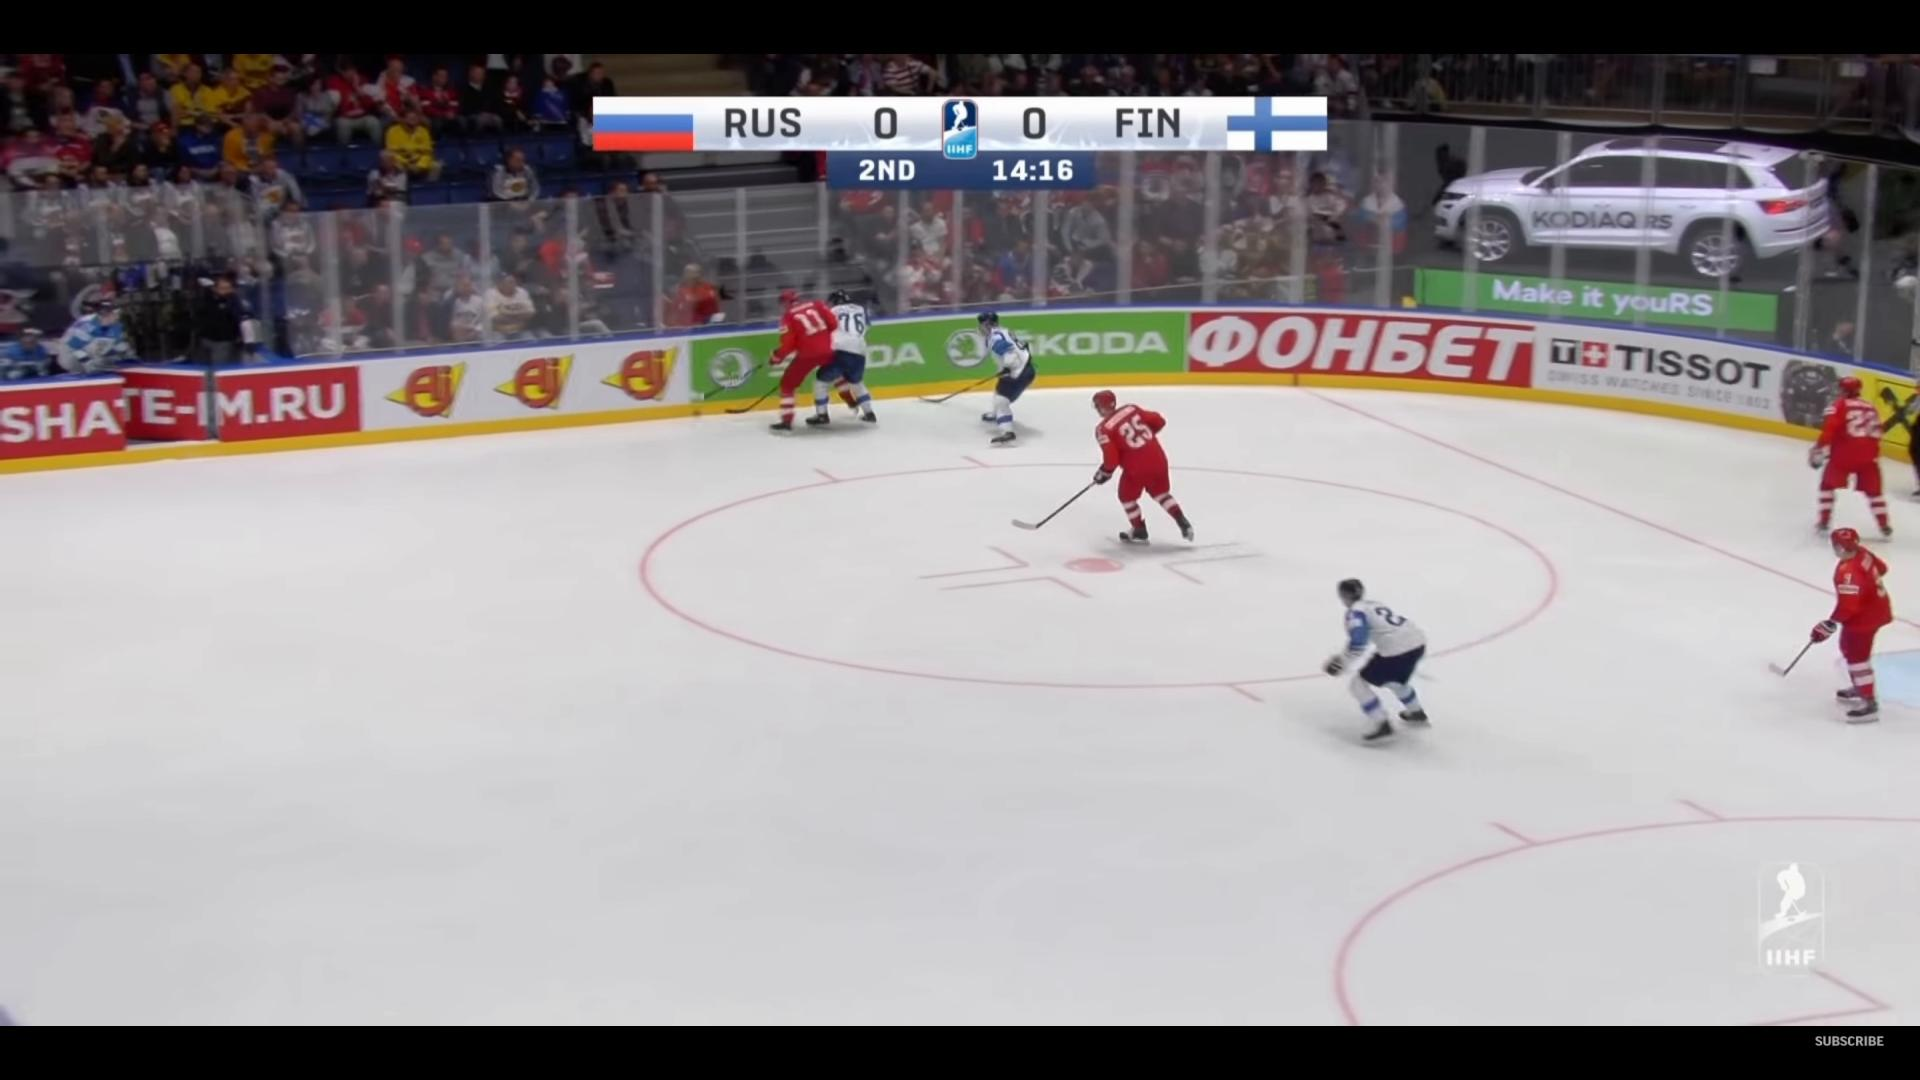puck: (691, 410, 701, 417)
